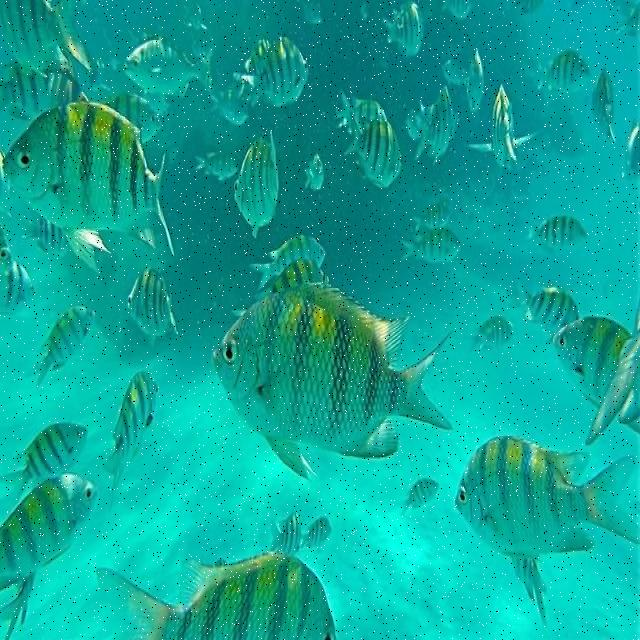fish: (213, 281, 453, 477), (455, 439, 638, 602), (2, 100, 175, 271), (96, 549, 336, 639), (1, 478, 96, 590), (1, 423, 88, 511), (556, 320, 631, 408), (467, 88, 541, 170), (105, 371, 159, 483), (28, 305, 94, 388), (125, 41, 211, 98), (235, 133, 280, 239), (245, 39, 309, 105), (345, 113, 402, 183), (252, 236, 327, 286), (128, 268, 179, 338), (414, 90, 455, 156), (402, 226, 461, 262), (526, 217, 586, 248), (385, 10, 424, 51), (466, 316, 514, 349), (398, 479, 439, 511)
